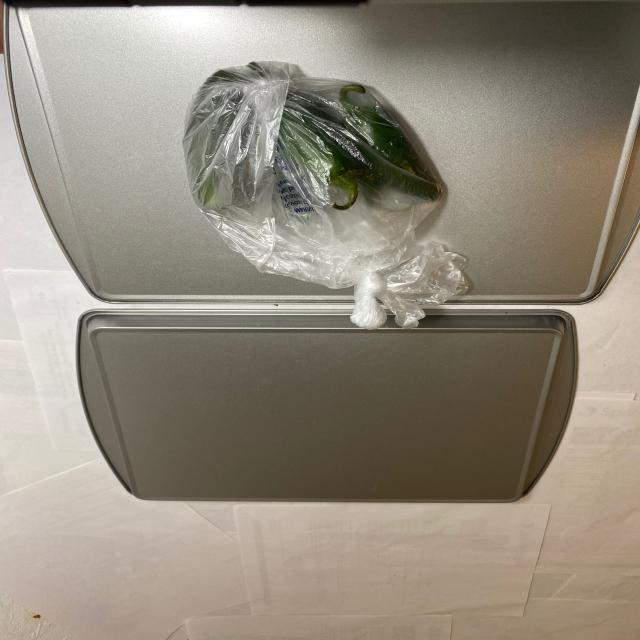chilli: (176, 66, 452, 243)
